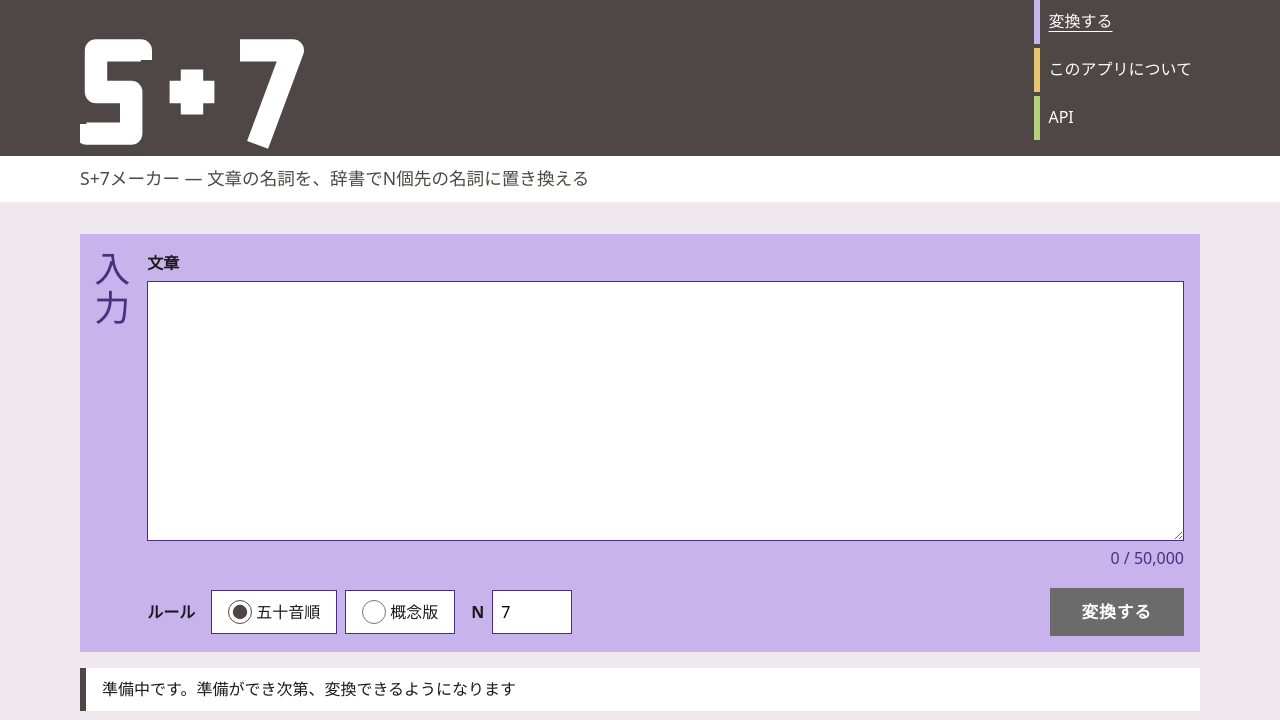
Test: TransformPage › 準備中は知らせ、押した変換を保持する
Type "猫" into the text box labelled "文章".
click(666, 411); type("猫")  # box [147,281,1184,541]
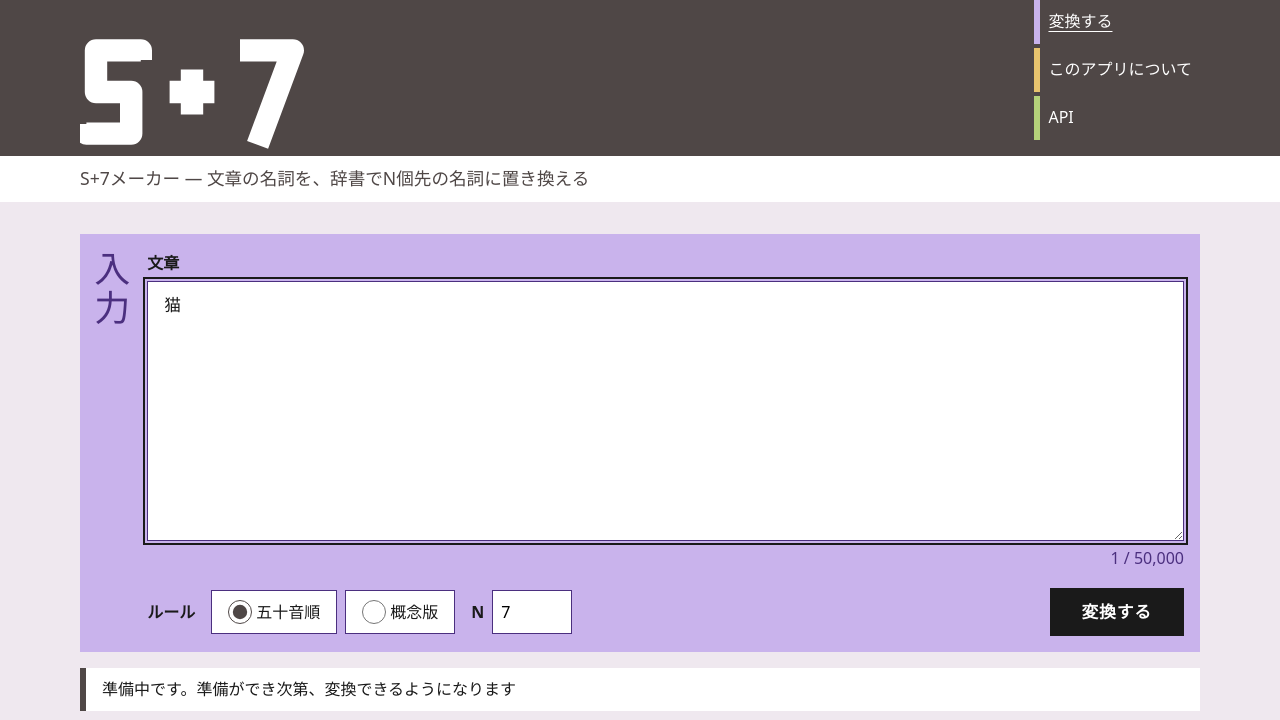
Click the button "変換する".
click(1117, 612)  # box [1050,588,1184,636]
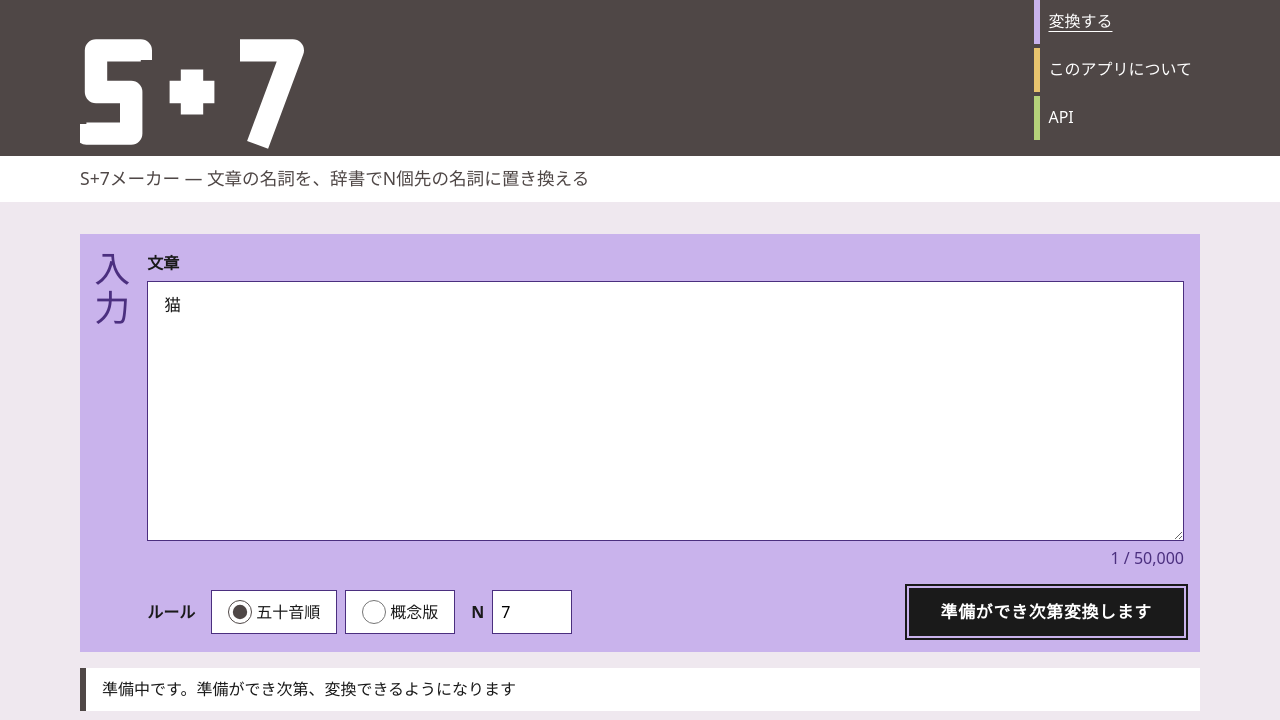
expect the button "準備ができ次第変換します" is shown: met, box [908,588,1184,636]
